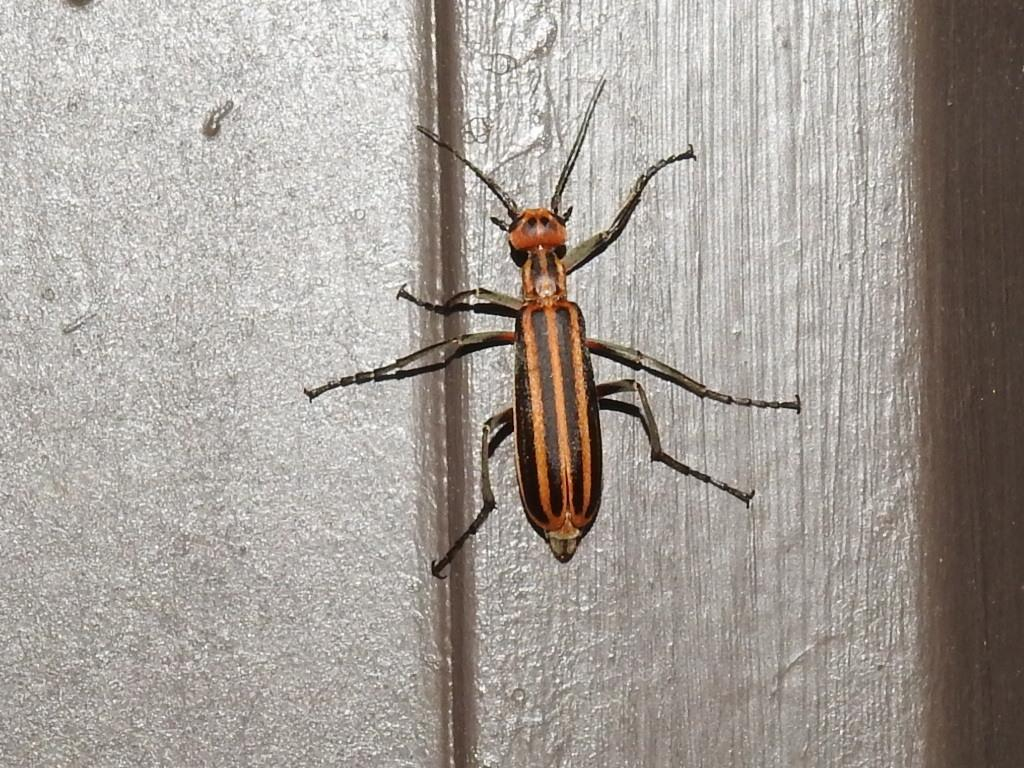blister_beetle: (208, 26, 896, 634)
